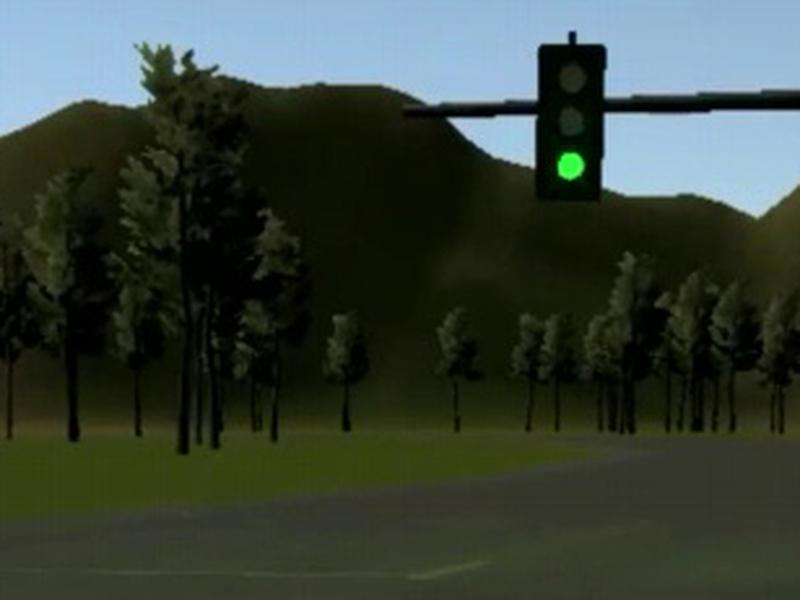Green: (534, 43, 608, 202)
